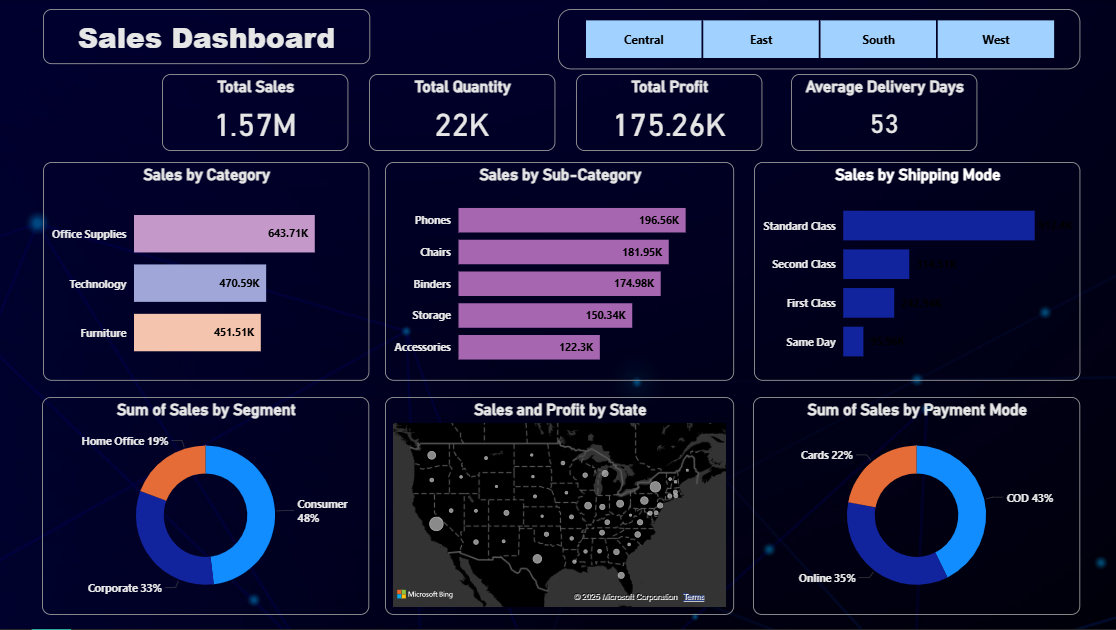

This screenshot's page, from the dashboard's own definition file:
{"tool":"powerbi","page":{"name":"Page 1","canvas":[1280,720],"ordinal":0},"visuals":[{"type":"clusteredBarChart","title":"Sales by Category","fields":{"Y":["Sum(SuperStore_Sales_Dataset.Sales)"],"Category":["SuperStore_Sales_Dataset.Category"]},"box":[53.7,186.3,372.6,250.3],"z":0},{"type":"clusteredBarChart","title":"Sales by Sub-Category","fields":{"Y":["Sum(SuperStore_Sales_Dataset.Sales)"],"Category":["SuperStore_Sales_Dataset.Sub-Category"]},"box":[444.6,186.3,398.9,250.3],"z":1000},{"type":"clusteredBarChart","title":"Sales by Shipping Mode","fields":{"Y":["Sum(SuperStore_Sales_Dataset.Sales)"],"Category":["SuperStore_Sales_Dataset.Ship Mode"]},"box":[866.3,186.3,372.6,250.3],"z":2000},{"type":"map","title":"Sales and Profit by State","fields":{"Category":["SuperStore_Sales_Dataset.State"],"Size":["Sum(SuperStore_Sales_Dataset.Sales)"]},"box":[444.6,454.9,398.9,249.1],"z":3000},{"type":"donutChart","fields":{"Category":["SuperStore_Sales_Dataset.Segment"],"Y":["Sum(SuperStore_Sales_Dataset.Sales)"]},"box":[52.6,454.9,373.7,249.1],"z":4000},{"type":"donutChart","fields":{"Y":["Sum(SuperStore_Sales_Dataset.Sales)"],"Category":["SuperStore_Sales_Dataset.Payment Mode"]},"box":[865.1,454.9,373.7,249.1],"z":5000},{"type":"slicer","fields":{"Values":["SuperStore_Sales_Dataset.Region"]},"box":[642.3,11.4,596.6,68.6],"z":6000},{"type":"textbox","box":[53.7,11.4,373.7,62.9],"z":7000},{"type":"card","title":"Total Sales","fields":{"Values":["Sum(SuperStore_Sales_Dataset.Sales)"]},"box":[189.7,85.7,212.6,88],"z":8000},{"type":"card","title":"Total Quantity","fields":{"Values":["Sum(SuperStore_Sales_Dataset.Quantity)"]},"box":[426.3,85.7,212.6,88],"z":9000},{"type":"card","title":"Total Profit","fields":{"Values":["Sum(SuperStore_Sales_Dataset.Profit)"]},"box":[662.9,85.7,212.6,88],"z":10000},{"type":"card","title":"Average Delivery Days","fields":{"Values":["Avg(SuperStore_Sales_Dataset.AvgDelivery)"]},"box":[908.6,85.7,212.6,88],"z":11000}]}

Visuals, with their boxes in screenshot pixels (x1, y1, x2, y2), scaled from the page's 1280x720 canvas onto the 1116x630 screenshot:
"Sales by Category" clusteredBarChart: [47,163,372,382]
"Sales by Sub-Category" clusteredBarChart: [388,163,735,382]
"Sales by Shipping Mode" clusteredBarChart: [755,163,1080,382]
"Sales and Profit by State" map: [388,398,735,616]
donutChart - SuperStore_Sales_Dataset.Segment x Sum(SuperStore_Sales_Dataset.Sales): [46,398,372,616]
donutChart - Sum(SuperStore_Sales_Dataset.Sales) x SuperStore_Sales_Dataset.Payment Mode: [754,398,1080,616]
slicer - SuperStore_Sales_Dataset.Region: [560,10,1080,70]
textbox: [47,10,373,65]
"Total Sales" card: [165,75,351,152]
"Total Quantity" card: [372,75,557,152]
"Total Profit" card: [578,75,763,152]
"Average Delivery Days" card: [792,75,978,152]
